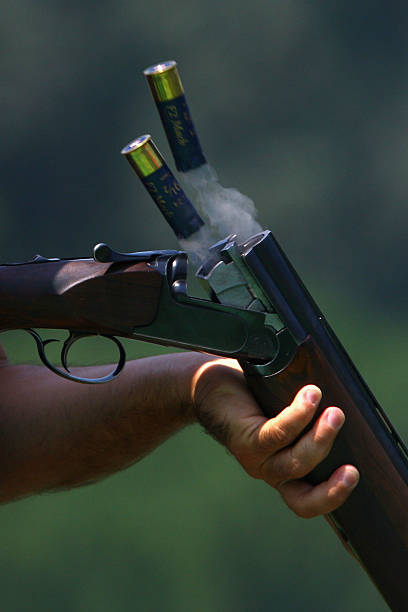shotgun: (6, 233, 406, 612)
